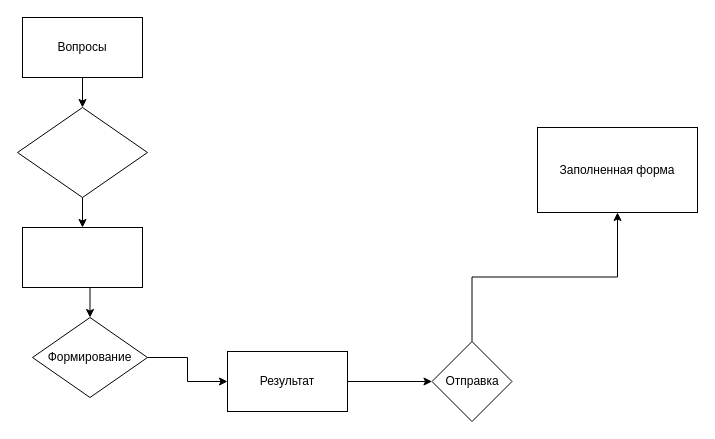
The diagram is 715 pixels wide and 439 high, and some of its shapes have lost their labels. Here are the shapes that lost their labels. From the top down, the centre of each, then its label:
At [82,152]: "Выбор".
At [82,257]: "Варианты ответов".
